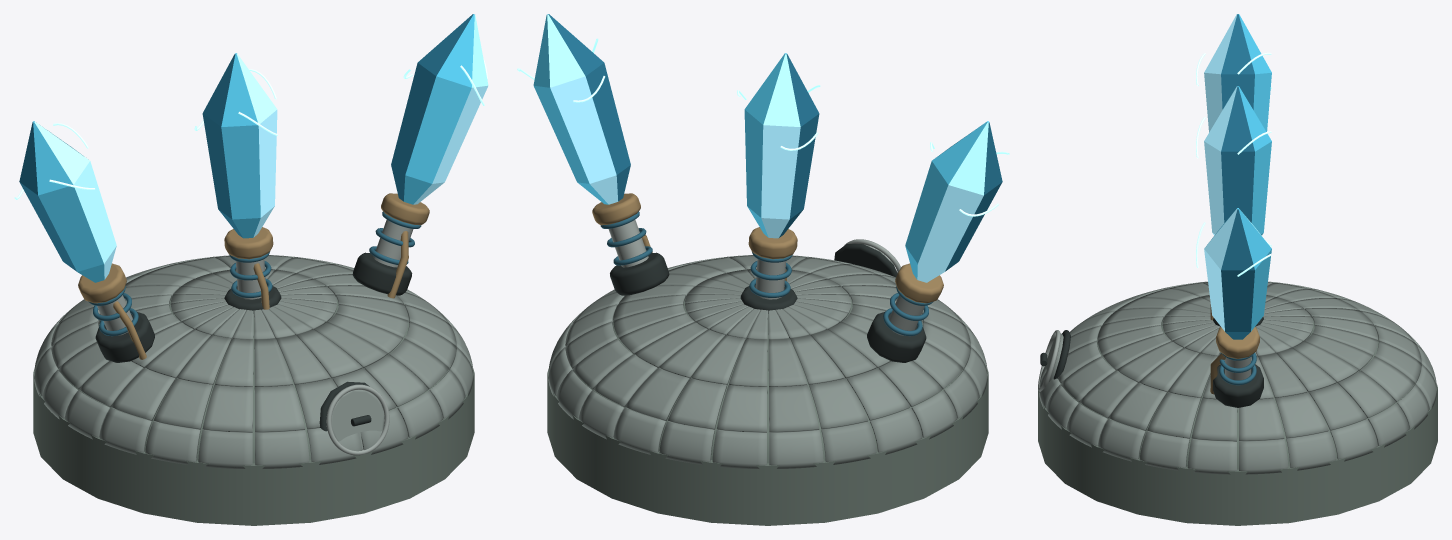
3 views of the same model, side by side, from view 1: azimuth 30°, elevation 25°; view 2: azimuth 150°, elevation 25°; view 3: azimuth 270°, elevation 25° (orthographic). The views are drawn at different scales.
Parts seen in each view (by area): view 1: Field generator curved armour, Foundation drum, Field crystal 03, Field crystal 02, Field crystal 01, Field generator control lid, Crystal emitter insulated socket, Crystal emitter insulated socket.002, Shield generator low housing, Crystal emitter socket crown, Crystal emitter socket crown.001, Field generator control rim (+4 smaller); view 2: Field generator curved armour, Foundation drum, Field crystal 03, Field crystal 02, Field crystal 01, Crystal emitter insulated socket, Crystal emitter insulated socket.002, Shield generator low housing, Crystal emitter socket crown, Field generator control dark gasket, Crystal emitter socket crown.001, Crystal emitter socket crown.002 (+4 smaller); view 3: Field generator curved armour, Foundation drum, Field crystal 02, Field crystal 03, Field crystal 01, Crystal emitter insulated socket.002, Shield generator low housing, Crystal emitter socket crown.002, Field generator control rim.
Part boxes in pixels (bbox=[...]): Field generator curved armour: bbox=[34, 255, 473, 468]; Foundation drum: bbox=[33, 368, 474, 525]; Field crystal 03: bbox=[391, 14, 488, 204]; Field crystal 02: bbox=[202, 53, 277, 238]; Field crystal 01: bbox=[19, 121, 116, 282]; Field generator control lid: bbox=[331, 390, 384, 449]; Crystal emitter insulated socket: bbox=[95, 312, 154, 362]; Crystal emitter insulated socket.002: bbox=[352, 252, 412, 295]; Shield generator low housing: bbox=[57, 297, 449, 463]; Crystal emitter socket crown: bbox=[78, 263, 126, 303]; Crystal emitter socket crown.001: bbox=[224, 227, 273, 259]; Field generator control rim: bbox=[326, 384, 389, 455]; Field generator curved armour: bbox=[548, 255, 987, 468]; Foundation drum: bbox=[547, 368, 988, 525]; Field crystal 03: bbox=[533, 14, 630, 204]; Field crystal 02: bbox=[744, 53, 819, 238]; Field crystal 01: bbox=[905, 121, 1002, 282]; Crystal emitter insulated socket: bbox=[867, 312, 926, 362]; Crystal emitter insulated socket.002: bbox=[610, 252, 669, 295]; Shield generator low housing: bbox=[572, 298, 964, 463]; Crystal emitter socket crown: bbox=[895, 263, 943, 303]; Field generator control dark gasket: bbox=[834, 244, 897, 277]; Crystal emitter socket crown.001: bbox=[748, 227, 797, 259]; Crystal emitter socket crown.002: bbox=[592, 193, 640, 225]; Field generator curved armour: bbox=[1039, 281, 1436, 474]; Foundation drum: bbox=[1038, 384, 1437, 525]; Field crystal 02: bbox=[1204, 86, 1271, 235]; Field crystal 03: bbox=[1204, 208, 1271, 339]; Field crystal 01: bbox=[1204, 14, 1271, 132]; Crystal emitter insulated socket.002: bbox=[1213, 364, 1263, 407]; Shield generator low housing: bbox=[1059, 319, 1416, 469]; Crystal emitter socket crown.002: bbox=[1216, 327, 1259, 358]; Field generator control rim: bbox=[1038, 330, 1060, 391].
Size of the model in its own units: 2.48 by 1.92 by 2.
